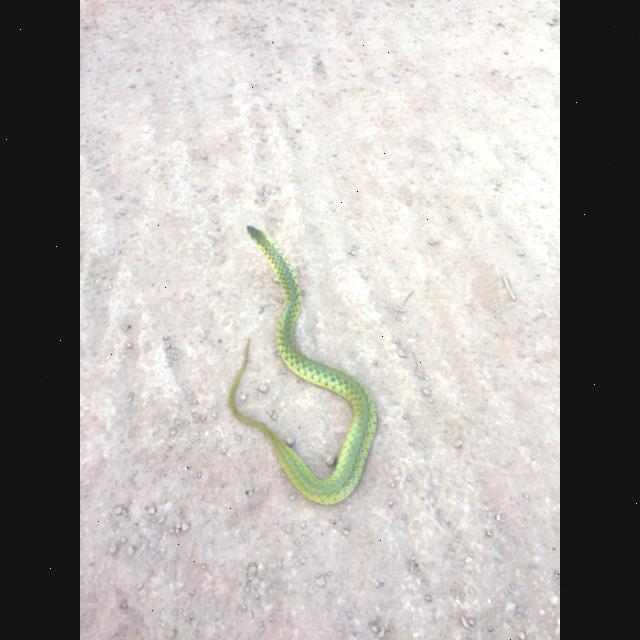snake: (224, 219, 386, 517)
